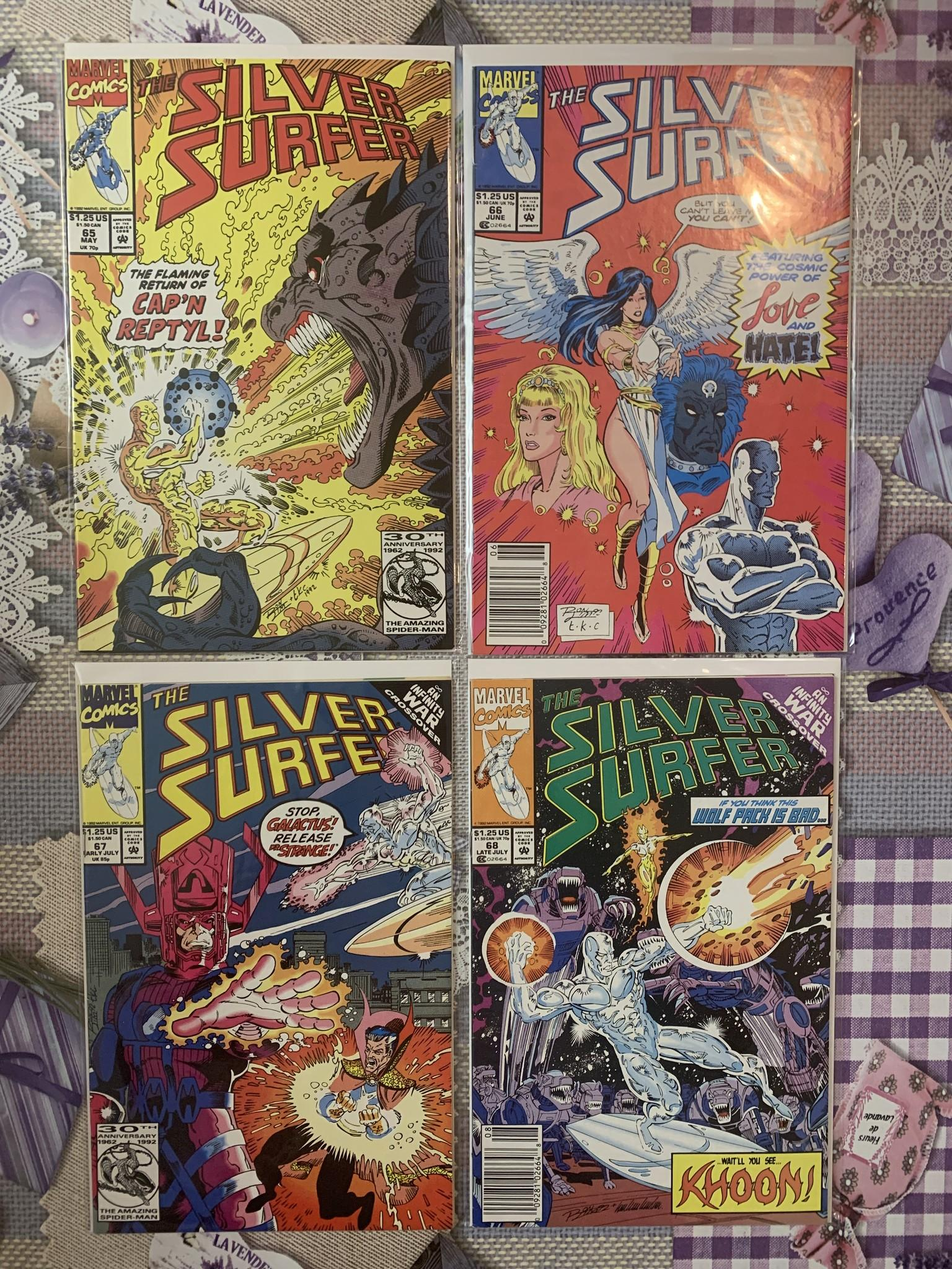comic: (64, 43, 456, 653), (462, 45, 852, 655), (77, 660, 452, 1232), (470, 658, 840, 1228)
